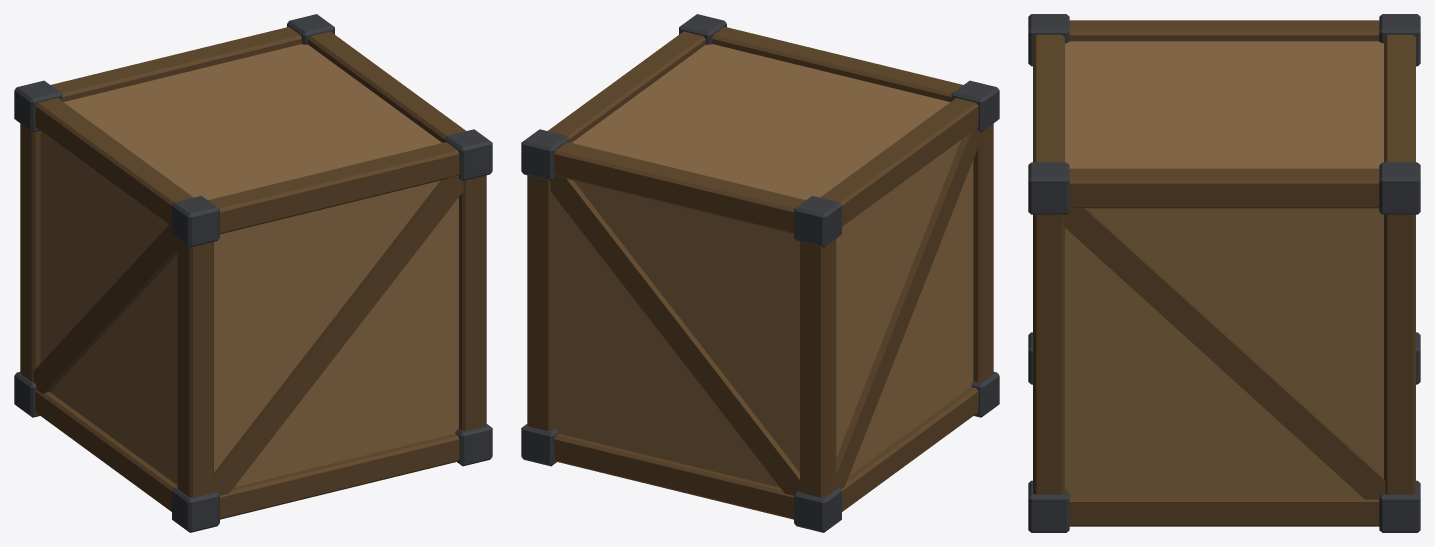
File: crate.glb
3 views of the same model, side by side, from view 1: azimuth 30°, elevation 25°; view 2: azimuth 150°, elevation 25°; view 3: azimuth 270°, elevation 25° (orthographic). The views are drawn at different scales.
Parts seen in each view (by area): view 1: crate; view 2: crate; view 3: crate.
Part boxes in pixels (x1,y1,x2,y2): crate: [14, 14, 492, 532]; crate: [521, 14, 999, 532]; crate: [1028, 14, 1420, 532].
Size of the model in its own units: 1.23 by 1.23 by 1.23.
